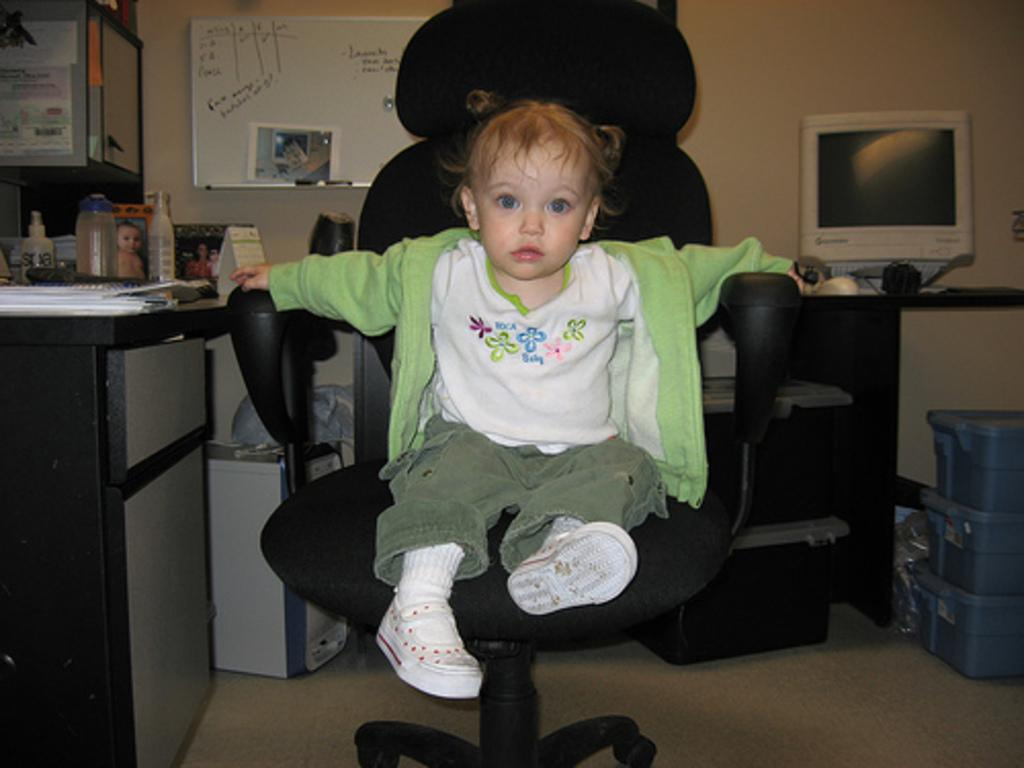Chair: (213, 0, 801, 766)
